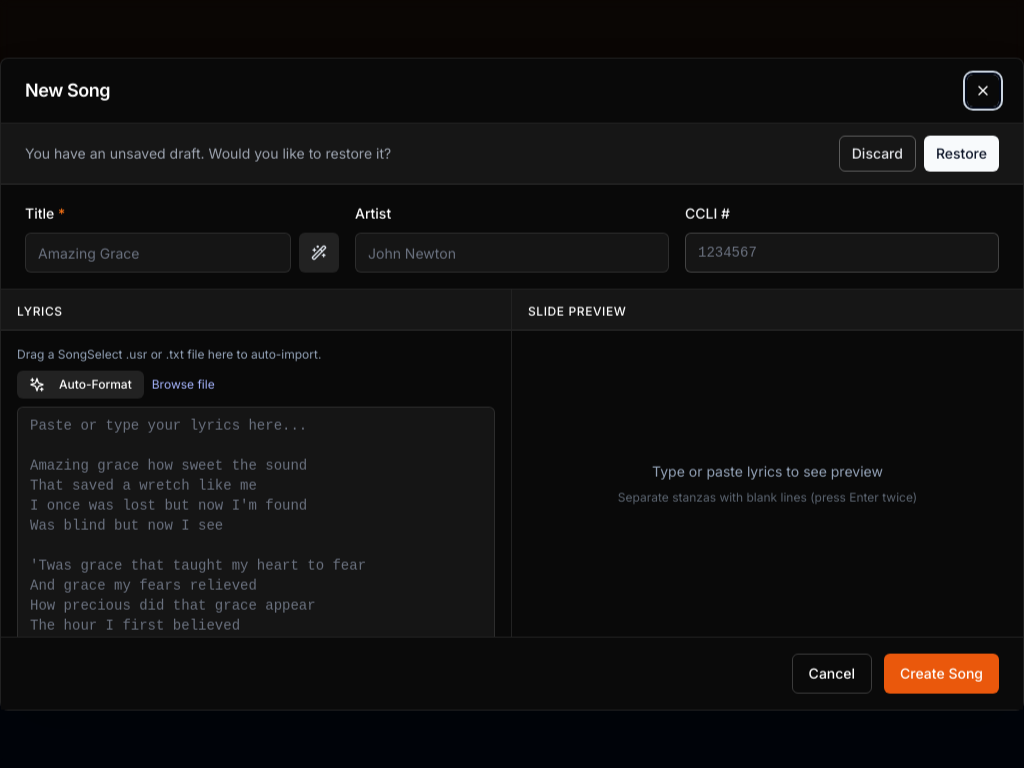
Test: SongEditorModal › Draft Functionality › should discard draft when discard button is clicked
Click the button "Discard" at (877, 154), box [839, 136, 916, 172]
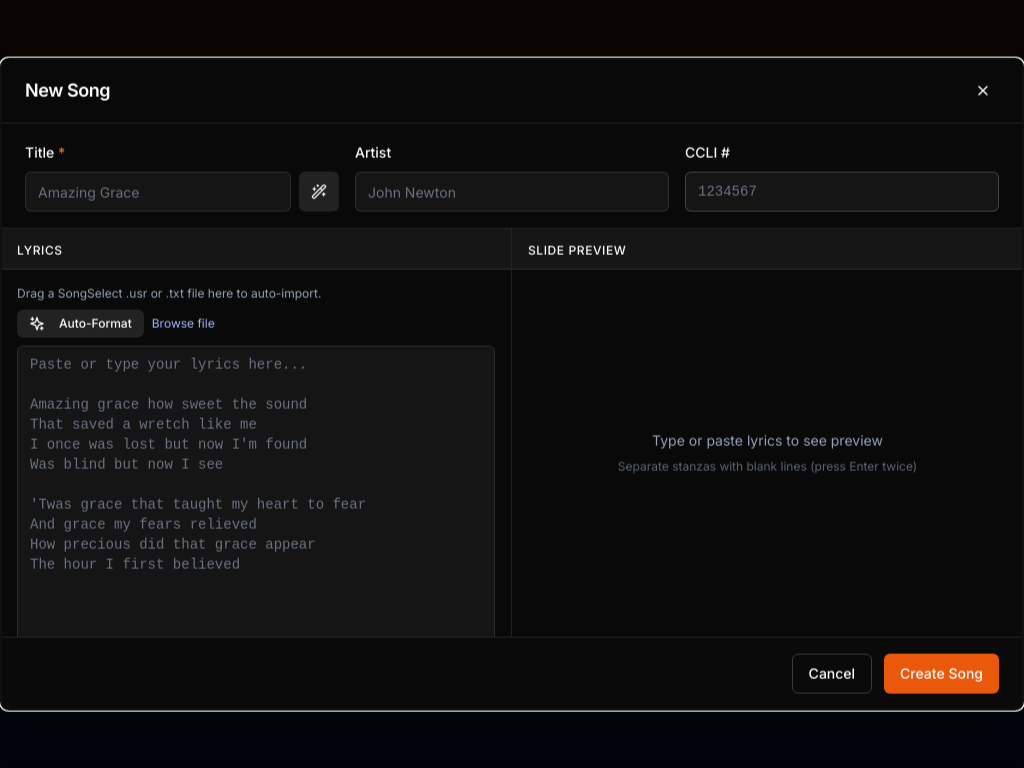
Check: the text "You have an unsaved draft" is gone
